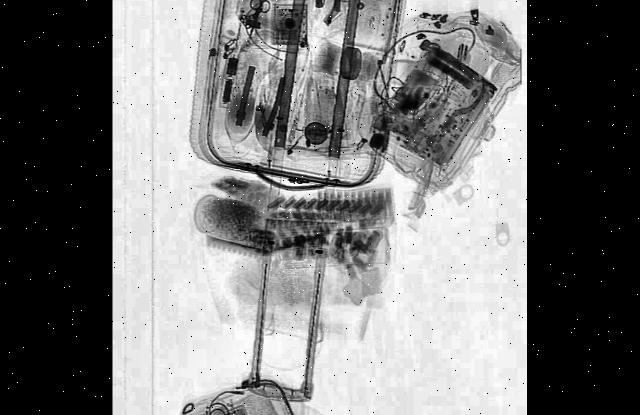Scissors: (240, 0, 270, 45)
